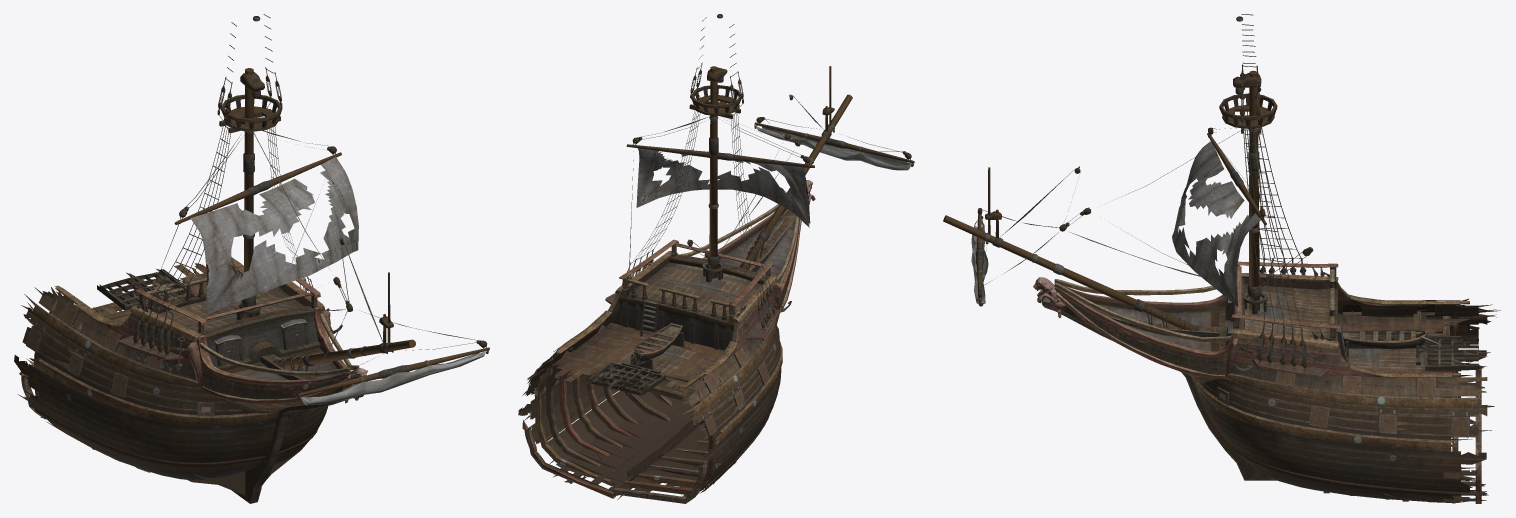
File: hull_half_bow.glb
3 views of the same model, side by side, from view 1: azimuth 30°, elevation 25°; view 2: azimuth 150°, elevation 25°; view 3: azimuth 270°, elevation 25° (orthographic). The views are drawn at different scales.
Parts seen in each view (by area): view 1: dutch_ship_large_02_hull, dutch_ship_large_02_rigging, dutch_ship_large_02_sails.002; view 2: dutch_ship_large_02_hull, dutch_ship_large_02_rigging, dutch_ship_large_02_sails.002; view 3: dutch_ship_large_02_hull, dutch_ship_large_02_rigging, dutch_ship_large_02_sails.002.
Boxes of the visible parts, x1,y1,x2,y2 form: dutch_ship_large_02_hull: (14, 257, 367, 503); dutch_ship_large_02_rigging: (132, 14, 489, 405); dutch_ship_large_02_sails.002: (190, 157, 358, 314); dutch_ship_large_02_hull: (518, 180, 815, 503); dutch_ship_large_02_rigging: (622, 14, 914, 344); dutch_ship_large_02_sails.002: (636, 148, 810, 227); dutch_ship_large_02_hull: (1033, 261, 1500, 503); dutch_ship_large_02_rigging: (943, 14, 1333, 383); dutch_ship_large_02_sails.002: (1172, 141, 1260, 306).
Size of the model in its own units: 8.37 by 17.49 by 19.12.
Materials: 4 (3 with a texture image).
